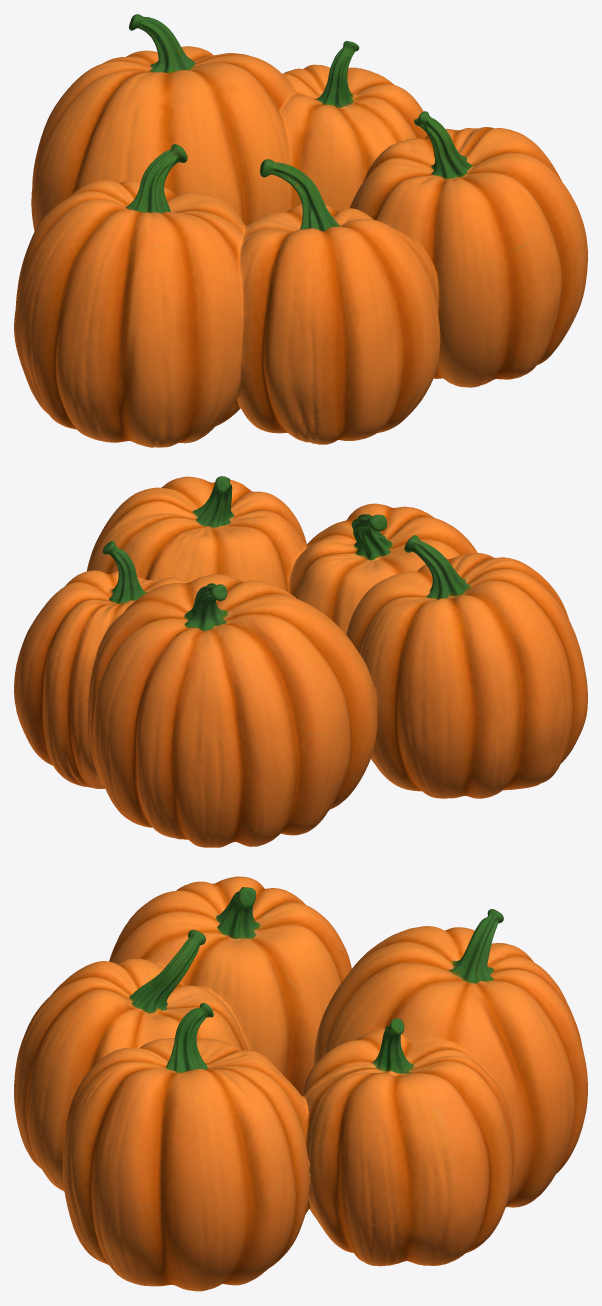
The model's file is Meshy_AI_A_small_patch_cluster_0824213048_texture-optimized.glb.
The picture shows the model from 3 angles, top to bottom: view 1: azimuth 30°, elevation 25°; view 2: azimuth 150°, elevation 25°; view 3: azimuth 270°, elevation 25°; orthographic projection. The views are drawn at different scales.
Visible parts, largest first — view 1: mesh_node; view 2: mesh_node; view 3: mesh_node.
Boxes of the visible parts, x1,y1,x2,y2 form: mesh_node: (14,14,587,447); mesh_node: (14,476,587,847); mesh_node: (14,876,587,1291).
Size of the model in its own units: 1.9 by 0.9664 by 1.82.
Materials: 1 (1 with a texture image).
